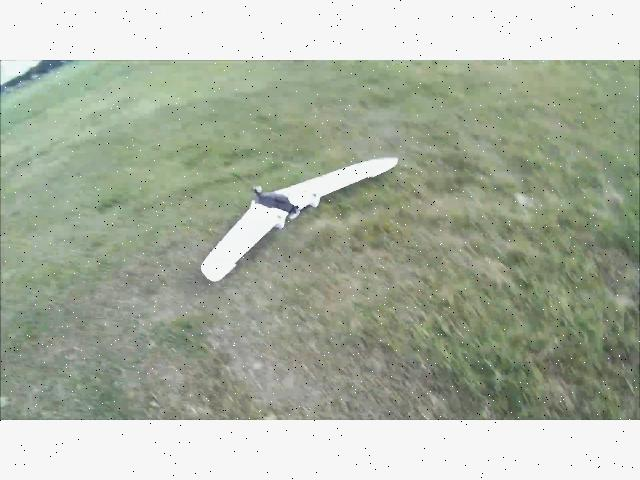Anti-Drone: (168, 132, 460, 294)
